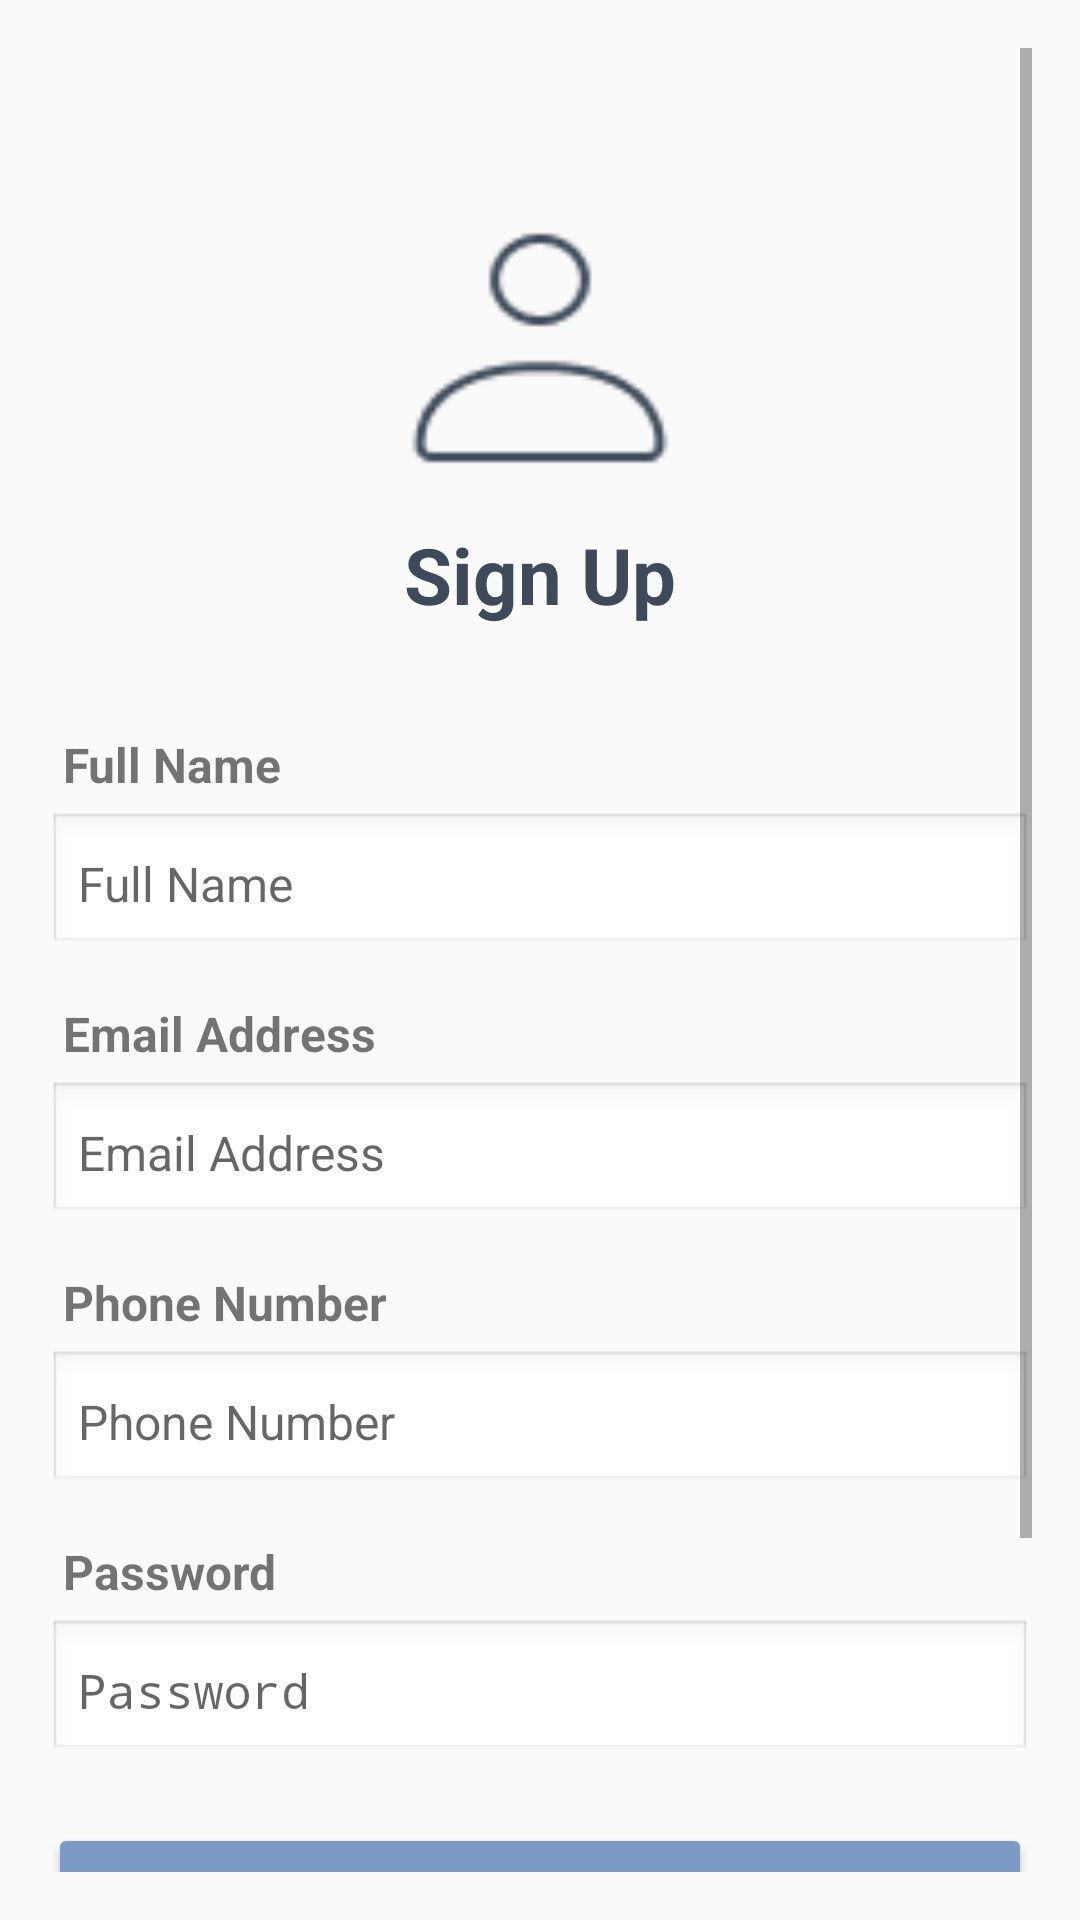

Icon bounding boxes for this 1080 x 1920 phone screenshot, format (x1, y1, x2, y2):
Human Icon: (412, 233, 668, 463)
